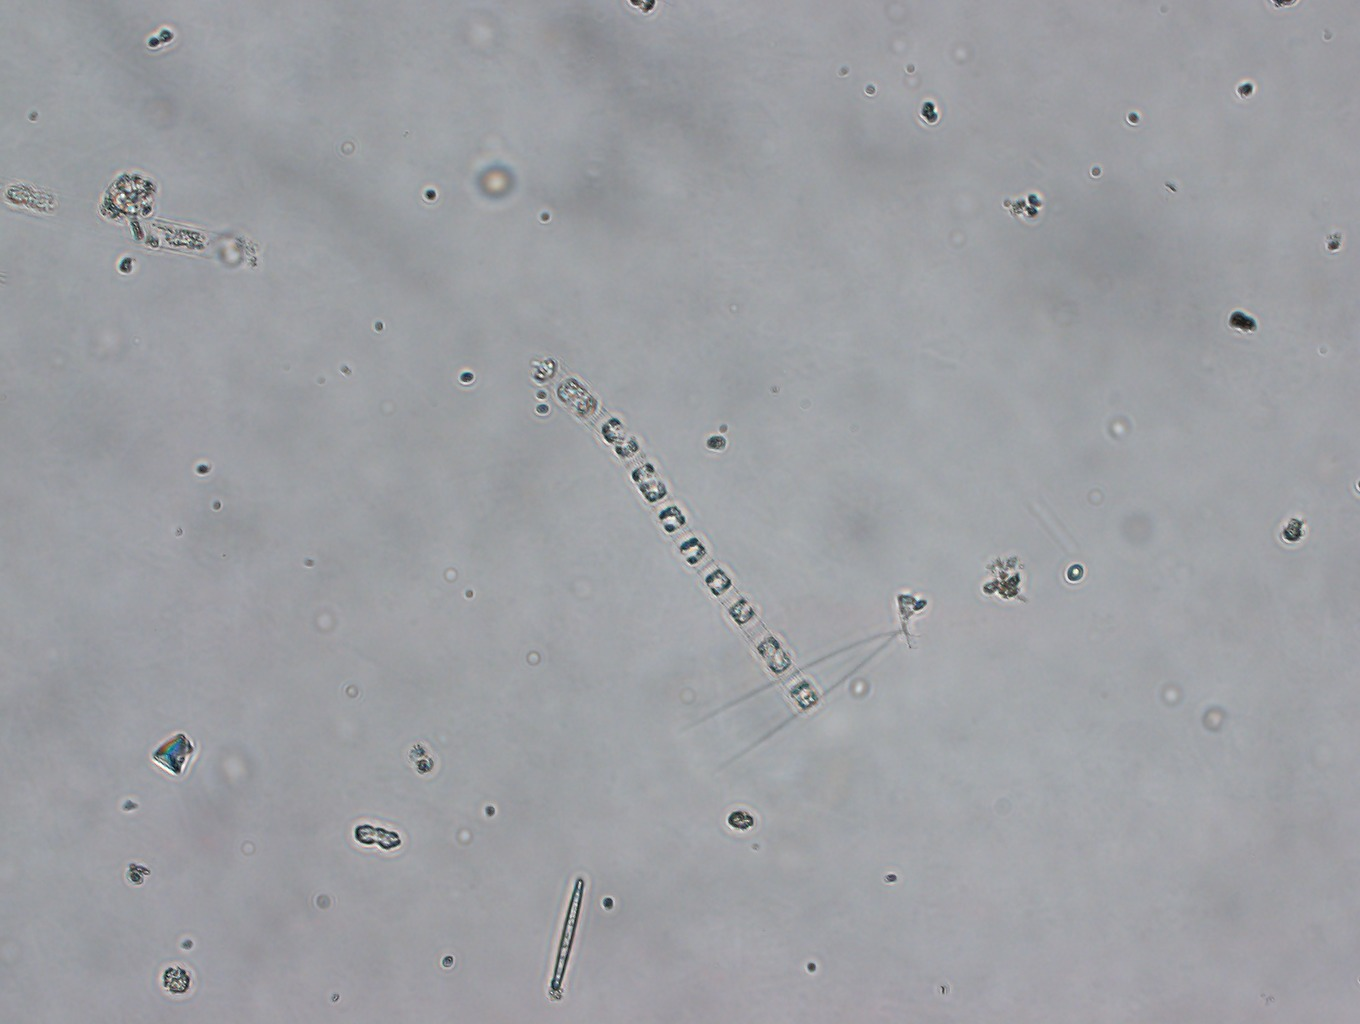skeletonema: (543, 366, 827, 720)
